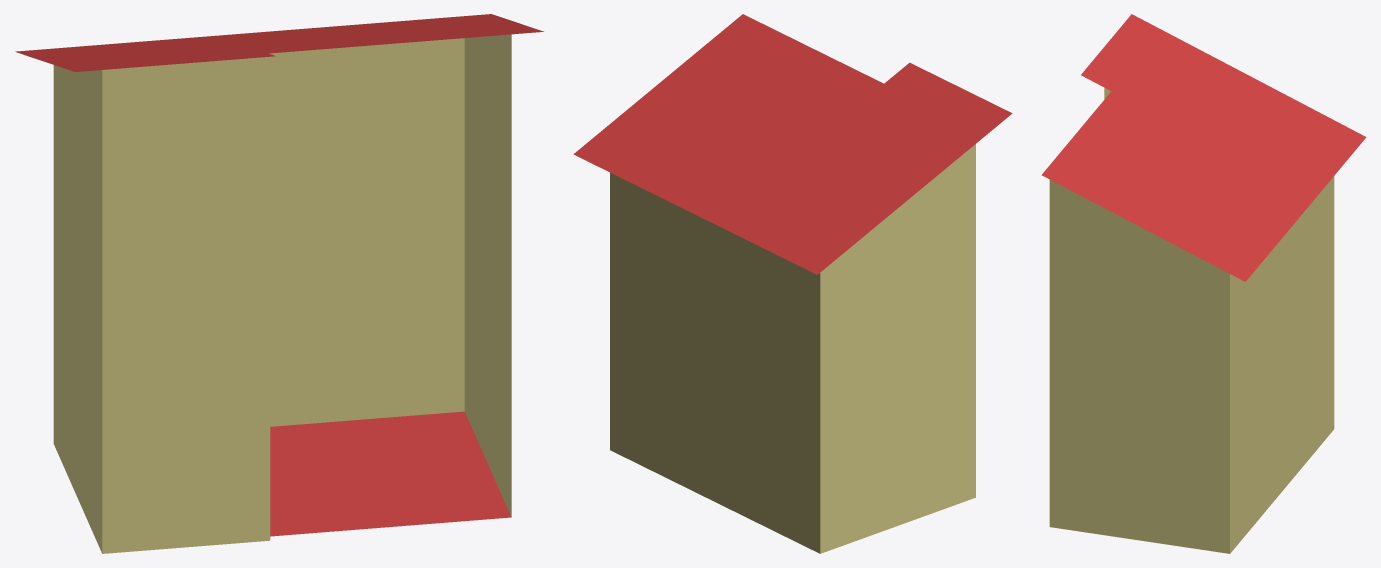
3 renders of one model, left to right at view 1: azimuth 30°, elevation 25°; view 2: azimuth 150°, elevation 25°; view 3: azimuth 270°, elevation 25°, orthographic. The views are drawn at different scales.
Bounding box in the file's own units: 8.43 × 6.44 × 8.16.
